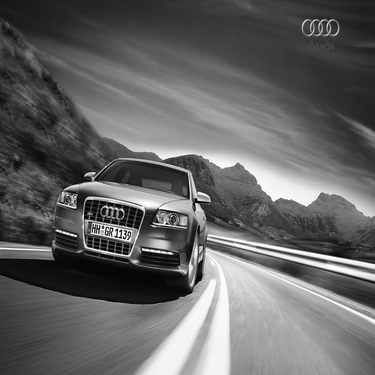car: (44, 148, 214, 301)
